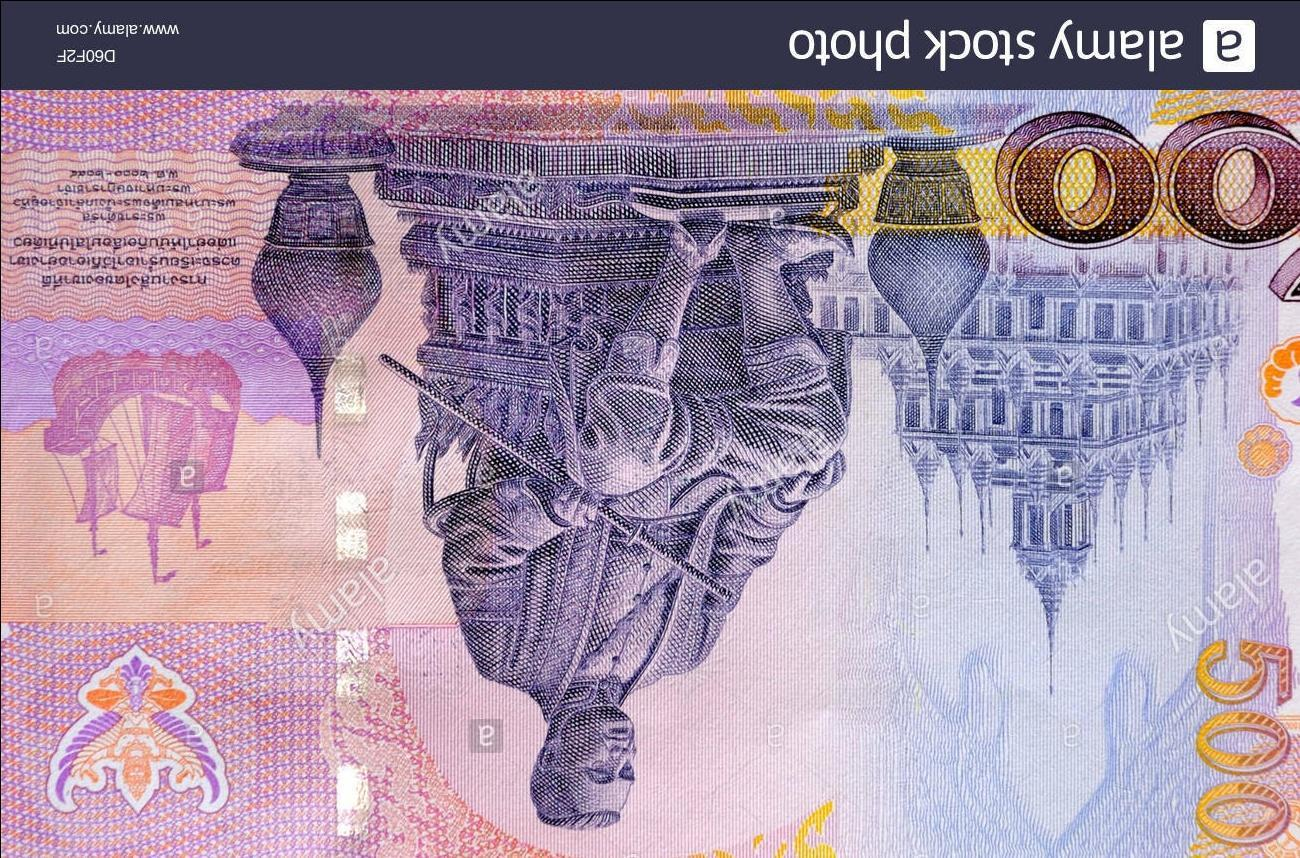500BahtTai: (0, 89, 1300, 858)
